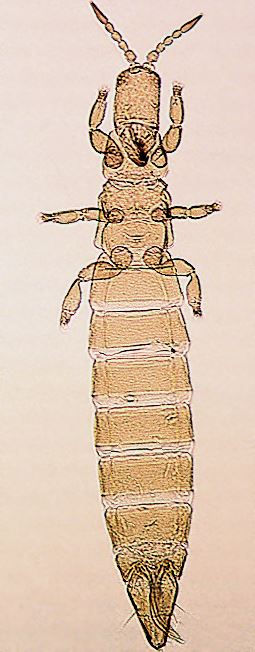Thripidae: (38, 1, 222, 647)
